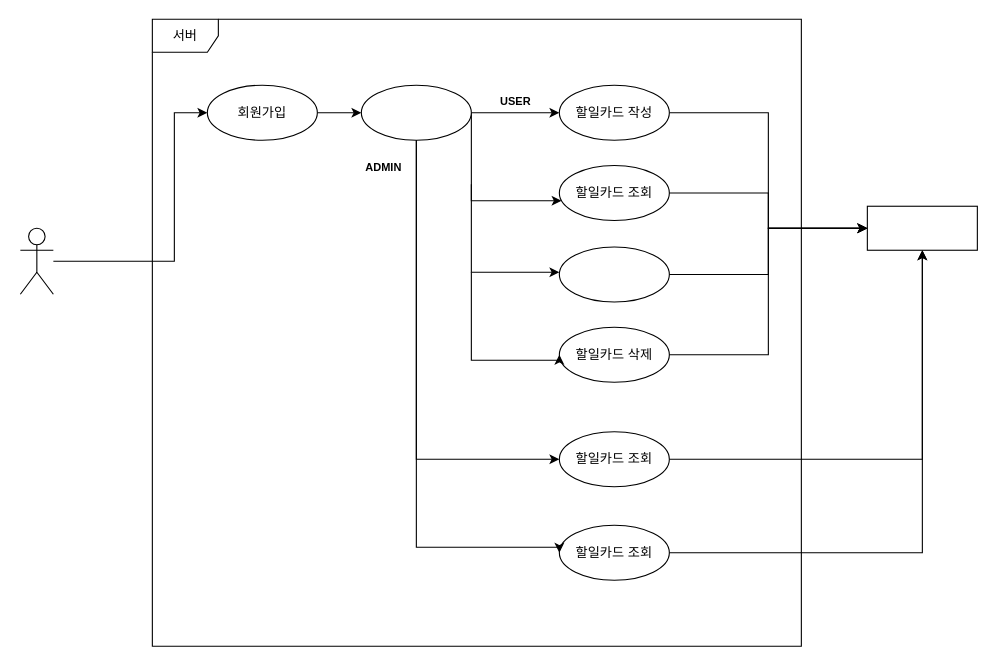
Some shapes in this 997 by 666 pixel diagram are drawn without their labels. Here are the shapes that lost their labels. From the top down, the centre of each, then its label:
At pixel 415 112: "로그인".
At pixel 921 227: "DB".
At pixel 36 260: "사용자".
At pixel 613 274: "할일카드 수정".
